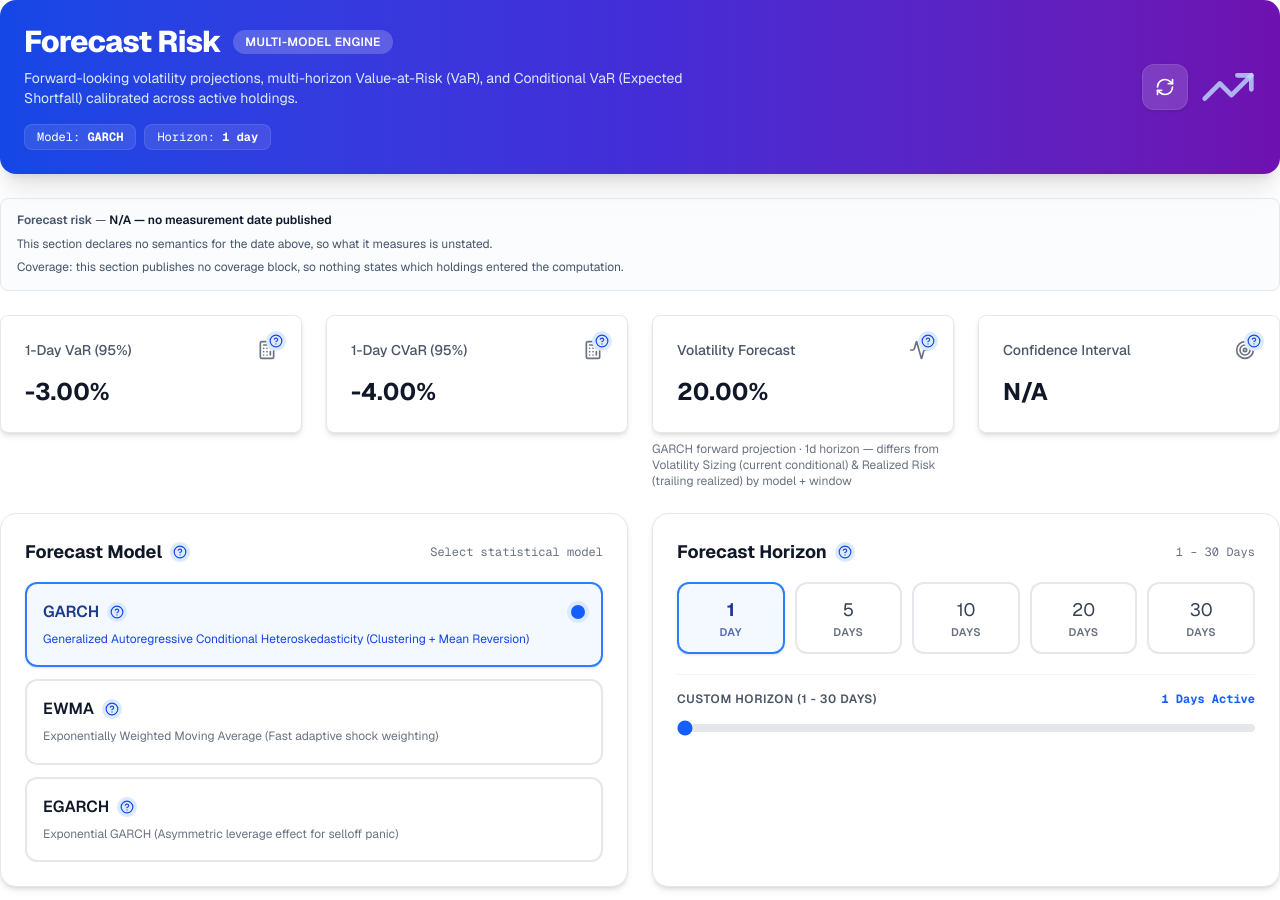
Test: fabricated fallbacks — forecast error banner + guarded curve › fetch failure clears stale headline forecast data and surfaces a fetch error banner
This screenshot has width=1280, height=900.
Expected: the text "20.00%" is shown, x1=677 y1=376 x2=768 y2=406
# Changing horizon triggers the next fetch, which fails.
Click the button "5 days".
click(848, 618)  # box x1=795 y1=582 x2=902 y2=654
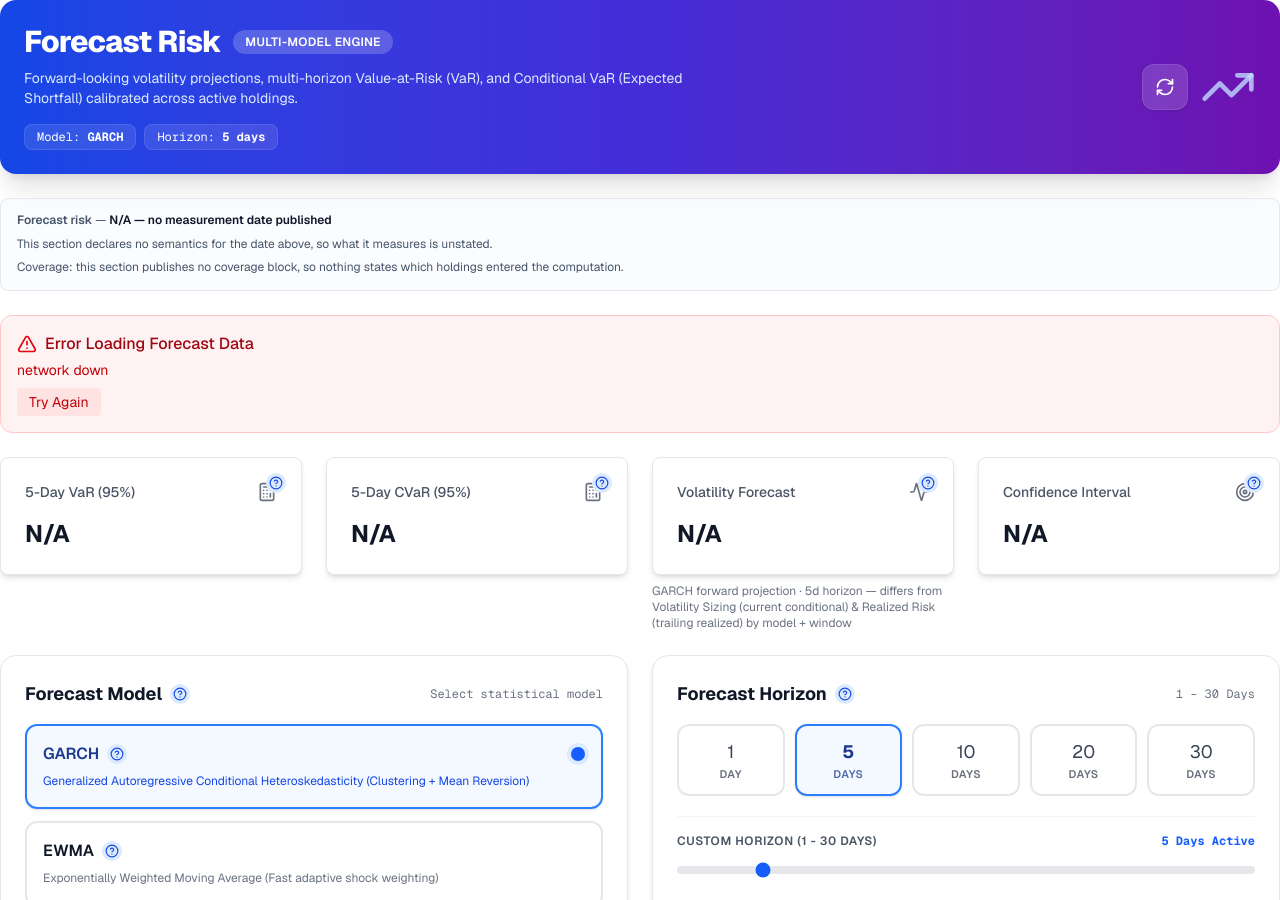
Result: the element with test id "forecast-fetch-error" is shown at x1=0 y1=314 x2=1279 y2=432
Result: the text "network down" is shown at x1=17 y1=360 x2=108 y2=378
Result: the text "20.00%" is gone
